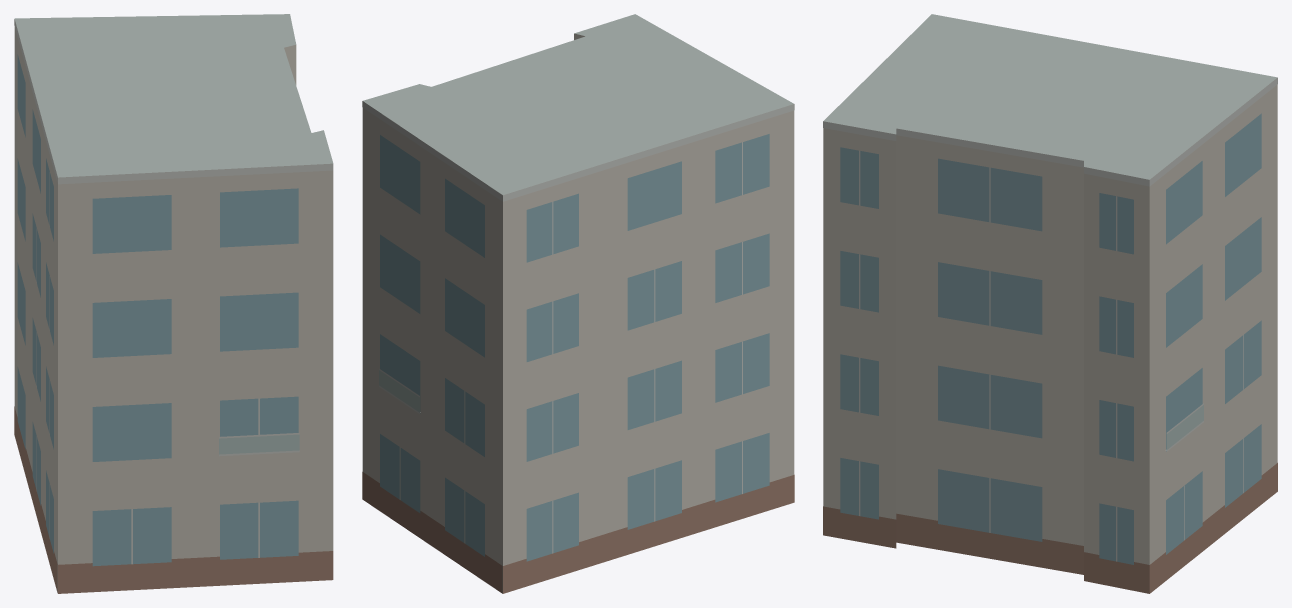
The model's file is survey-upis-33000101.glb.
3 views of the same model, side by side, from view 1: azimuth 30°, elevation 25°; view 2: azimuth 150°, elevation 25°; view 3: azimuth 270°, elevation 25° (orthographic). The views are drawn at different scales.
Parts seen in each view (by area): view 1: survey-upis-33000101.tmp; view 2: survey-upis-33000101.tmp; view 3: survey-upis-33000101.tmp.
Boxes of the visible parts, left/top/right/bottom form: survey-upis-33000101.tmp: left=14, top=14, right=333, bottom=593; survey-upis-33000101.tmp: left=362, top=14, right=794, bottom=593; survey-upis-33000101.tmp: left=823, top=14, right=1277, bottom=593.
Size of the model in its own units: 12.81 by 14.9 by 14.84.
